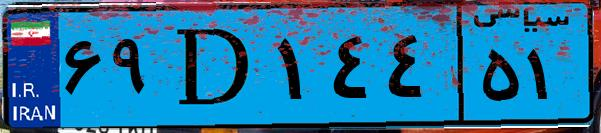1: (270, 28, 330, 110), (525, 38, 570, 115)
4: (385, 28, 445, 110), (330, 28, 385, 110)
5: (475, 38, 525, 113)
6: (57, 26, 110, 100)
9: (110, 28, 158, 98)
D: (158, 12, 270, 120)
